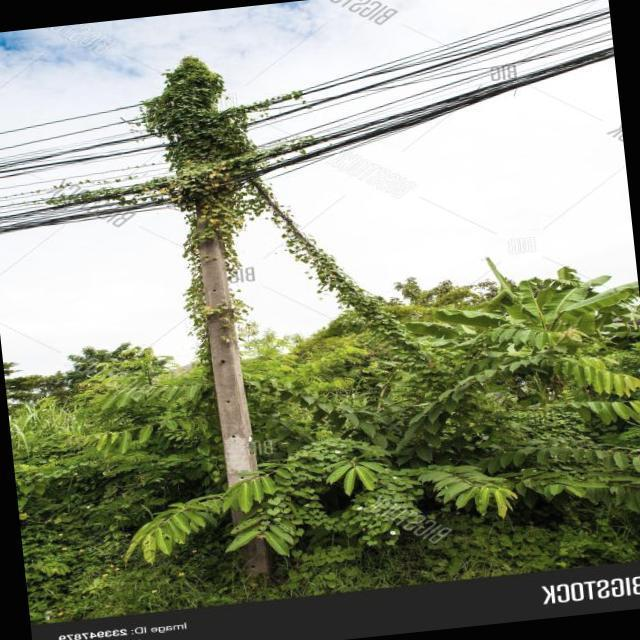critical vegetation: (14, 18, 408, 292)
